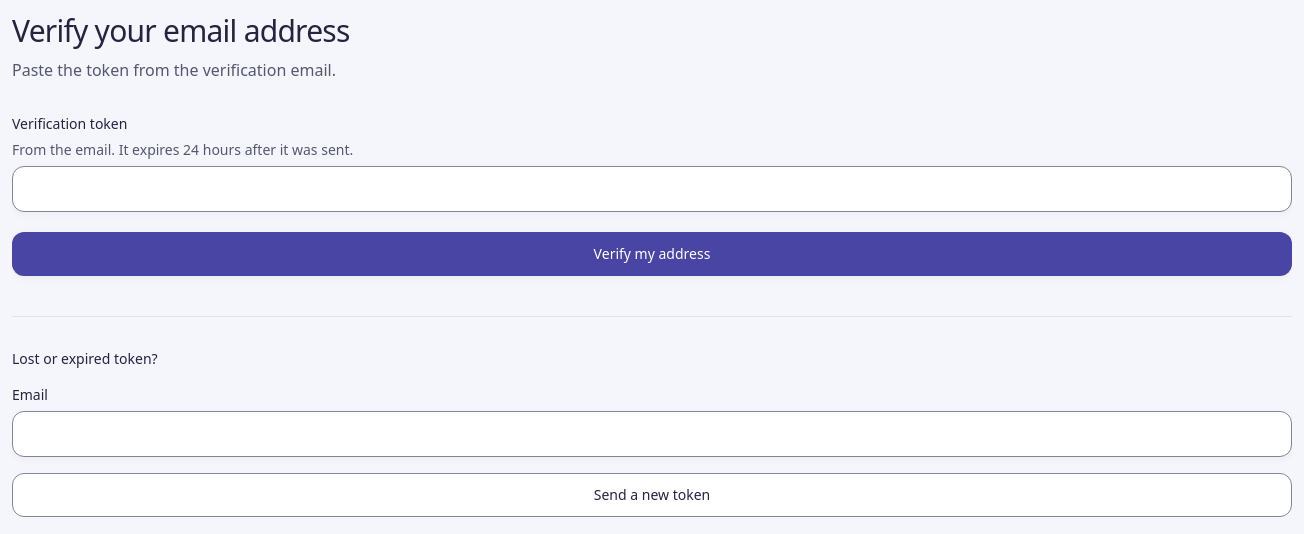
Test case: a visit with no token in the URL › sends the pasted token
Type "dmVyaWZpY2F0aW9uLXRva2VuLWZpbmRhYmxlLTQy" into the field labelled "Verification token" at (652, 188), box [12,166,1292,212]
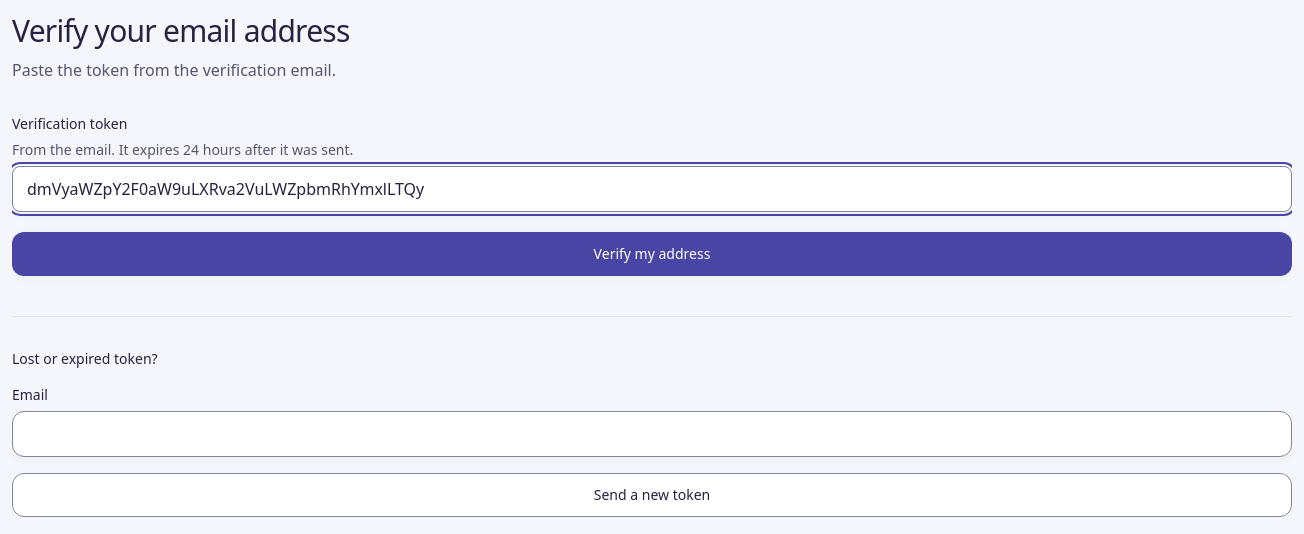
Click the button "Verify my address" at (652, 254), box [12,232,1292,276]
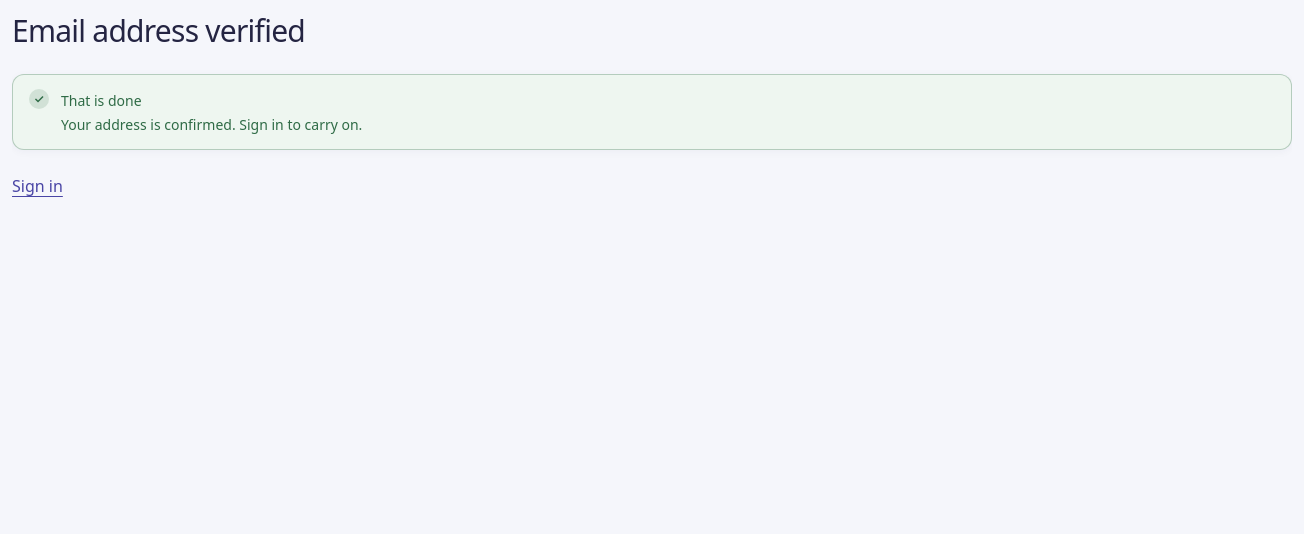
Now the message "✓ That is done Your address is confirmed. Sign in to carry on." is shown, box [12,74,1292,150]
